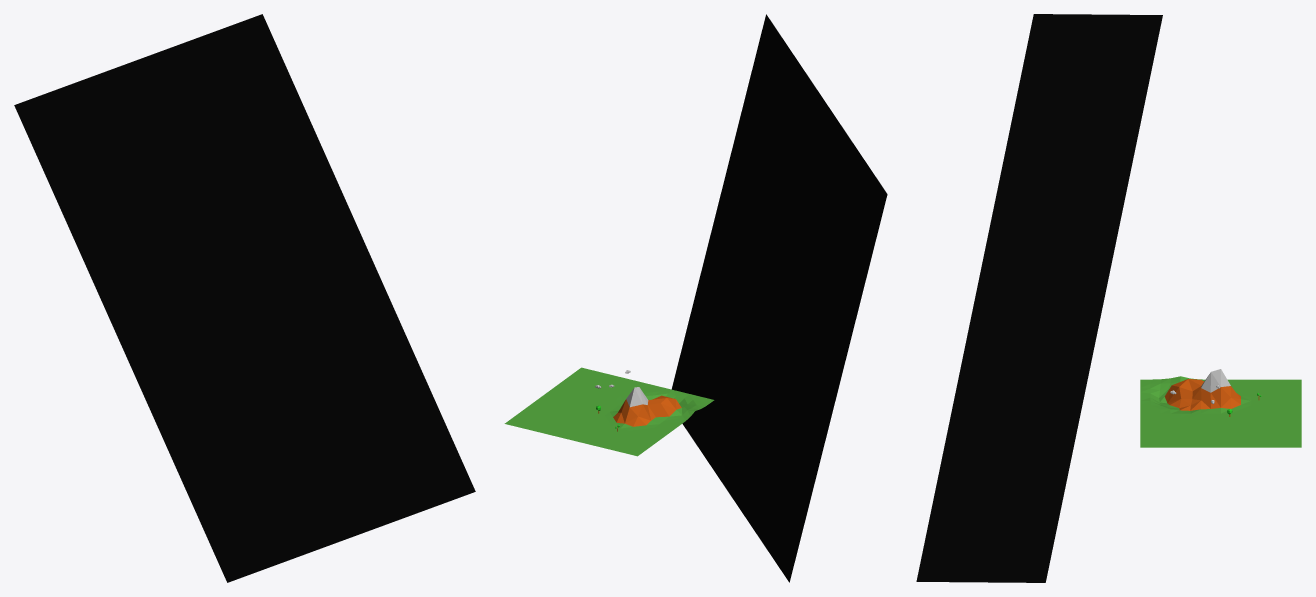
The model's file is mountain.obj.
3 renders of one model, left to right at view 1: azimuth 30°, elevation 25°; view 2: azimuth 150°, elevation 25°; view 3: azimuth 270°, elevation 25°, orthographic. The views are drawn at different scales.
Parts seen in each view (by area): view 1: Plane.002; view 2: Plane.002, Plane; view 3: Plane.002, Plane.
Part boxes in pixels (bbox=[...]): Plane.002: bbox=[14, 14, 475, 582]; Plane.002: bbox=[671, 14, 887, 582]; Plane: bbox=[504, 367, 714, 456]; Plane.002: bbox=[916, 14, 1162, 582]; Plane: bbox=[1140, 369, 1301, 447].
Size of the model in its own units: 34.6 by 54.7 by 32.7.
